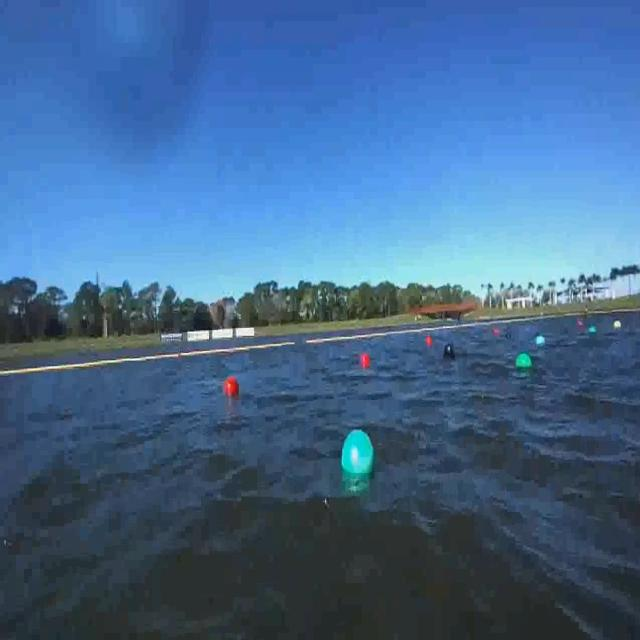black-buoy: (444, 344, 457, 359)
green-buoy: (341, 430, 376, 477), (514, 352, 531, 371), (537, 336, 549, 348)
red-buoy: (224, 373, 238, 395), (360, 353, 370, 370), (426, 337, 432, 347)
